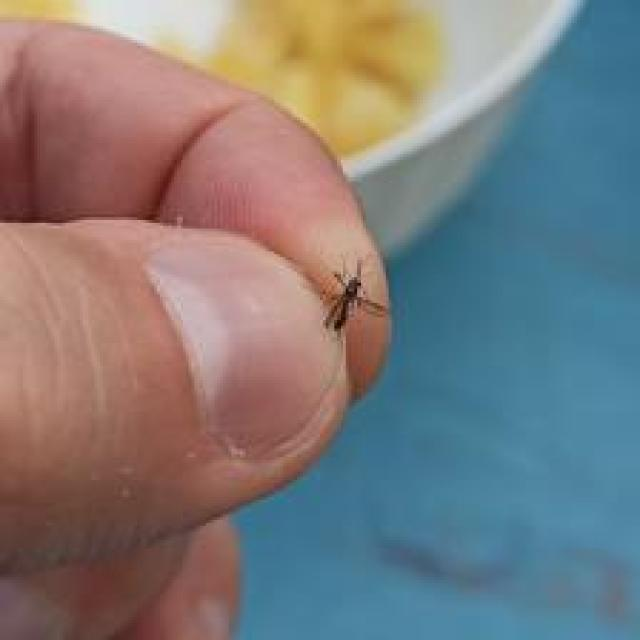Aedes albopictus: (320, 260, 389, 337)
